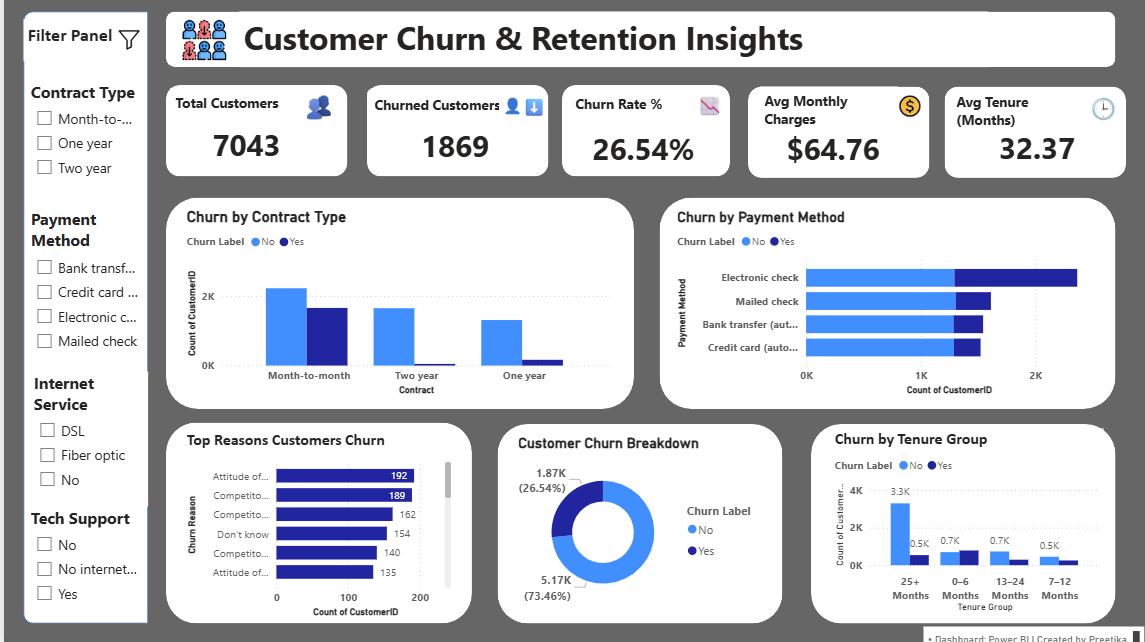

What the dashboard file says about the page in this screenshot:
{"tool":"powerbi","page":{"name":"Page 1","canvas":[1340,780],"ordinal":0},"visuals":[{"type":"textbox","box":[1080.2,755.9,259,24.7],"z":0},{"type":"shape","box":[190.3,33.5,1115.4,65.2],"z":1000},{"type":"shape","box":[190.3,119.8,213.2,107.5],"z":2000},{"type":"shape","box":[190.3,252,549.8,248.5],"z":3000},{"type":"shape","box":[770,252,535.7,248.5],"z":4000},{"type":"shape","box":[190.3,516.3,359.5,236.1],"z":5000},{"type":"shape","box":[579.7,518.1,334.8,234.4],"z":6000},{"type":"shape","box":[948,518.1,357.7,234.4],"z":7000},{"type":"shape","box":[22.9,33.5,146.3,718.9],"z":8000},{"type":"image","box":[209.7,24.7,51.1,84.6],"z":9000},{"type":"textbox","box":[276.6,33.5,879.3,65.2],"z":10000},{"type":"textbox","box":[195.6,123.3,174.4,40.5],"z":11000},{"type":"shape","box":[426.4,119.8,213.2,107.5],"z":12000},{"type":"shape","box":[655.5,119.8,197.4,107.5],"z":13000},{"type":"shape","box":[874,121.6,213.2,107.5],"z":14000},{"type":"shape","box":[1104.8,121.6,213.2,107.5],"z":15000},{"type":"textbox","box":[426.4,123.3,207.9,51.1],"z":16000},{"type":"textbox","box":[666.1,125.1,148,44.1],"z":17000},{"type":"textbox","box":[888.1,121.6,162.1,52.9],"z":18000},{"type":"textbox","box":[1113.6,123.3,144.5,52.9],"z":19000},{"type":"image","box":[355.9,126.9,28.2,38.8],"z":20000},{"type":"image","box":[581.5,119.8,31.7,49.3],"z":21000},{"type":"image","box":[611.4,125.1,22.9,42.3],"z":22000},{"type":"image","box":[814.1,132.2,30,24.7],"z":23000},{"type":"image","box":[1277.5,128.6,28.2,38.8],"z":24000},{"type":"clusteredColumnChart","title":"Churn by Contract Type","fields":{"Category":["cleaned_telco_churn.Contract"],"Y":["CountNonNull(cleaned_telco_churn.CustomerID)"],"Series":["cleaned_telco_churn.Churn Label"]},"box":[209.7,264.3,507.5,223.8],"z":25000},{"type":"donutChart","title":"Customer Churn Breakdown","fields":{"Category":["cleaned_telco_churn.Churn Label"],"Y":["CountNonNull(cleaned_telco_churn.CustomerID)"]},"box":[599.1,530.4,301.3,209.7],"z":26000},{"type":"barChart","title":"Churn by Payment Method","fields":{"Y":["CountNonNull(cleaned_telco_churn.CustomerID)"],"Category":["cleaned_telco_churn.Payment Method"],"Series":["cleaned_telco_churn.Churn Label"]},"box":[785.9,264.3,505.7,223.8],"z":27000},{"type":"clusteredColumnChart","title":"Churn by Tenure Group","fields":{"Y":["CountNonNull(cleaned_telco_churn.CustomerID)"],"Category":["cleaned_telco_churn.Tenure Group"],"Series":["cleaned_telco_churn.Churn Label"]},"box":[970.9,523.3,320.7,220.3],"z":28000},{"type":"slicer","title":"Contract Type","fields":{"Values":["cleaned_telco_churn.Contract"]},"box":[26.4,114.5,139.2,137.4],"z":29000},{"type":"textbox","box":[22.9,42.3,119.8,49.3],"z":30000},{"type":"slicer","title":"Payment Method","fields":{"Values":["cleaned_telco_churn.Payment Method"]},"box":[26.4,264.3,137.4,174.4],"z":31000},{"type":"slicer","title":"Internet Service","fields":{"Values":["cleaned_telco_churn.Internet Service"]},"box":[30,456.4,139.2,158.6],"z":32000},{"type":"slicer","title":"Tech Support","fields":{"Values":["cleaned_telco_churn.Tech Support"]},"box":[26.4,615,135.7,125.1],"z":33000},{"type":"card","fields":{"Values":["CountNonNull(cleaned_telco_churn.CustomerID)"]},"box":[232.6,160.4,104,58.1],"z":34000},{"type":"card","fields":{"Values":["cleaned_telco_churn.Churn Rate %"]},"box":[685.5,172.7,130.4,42.3],"z":35000},{"type":"card","fields":{"Values":["cleaned_telco_churn.Churned Customers"]},"box":[484.6,162.1,89.9,56.4],"z":36000},{"type":"card","fields":{"Values":["Avg(cleaned_telco_churn.Monthly Charges)"]},"box":[907.5,172.7,132.2,44.1],"z":37000},{"type":"card","fields":{"Values":["Avg(cleaned_telco_churn.Tenure Months)"]},"box":[1147.1,170.9,132.2,44.1],"z":38000},{"type":"image","box":[128.6,54.6,37,24.7],"z":39000},{"type":"image","box":[1050.2,128.6,28.2,31.7],"z":40000},{"type":"barChart","title":"Top Reasons Customers Churn","fields":{"Category":["cleaned_telco_churn.Churn Reason"],"Y":["CountNonNull(cleaned_telco_churn.CustomerID)"]},"box":[209.7,524.3,320.5,223.6],"z":41000}]}

Visuals, with their boxes in screenshot pixels (x1, y1, x2, y2):
textbox: [911, 617, 1128, 638]
shape: [163, 10, 1100, 65]
shape: [163, 83, 342, 173]
shape: [163, 194, 625, 403]
shape: [650, 194, 1100, 403]
shape: [163, 416, 465, 614]
shape: [490, 417, 771, 614]
shape: [800, 417, 1100, 614]
shape: [22, 10, 145, 614]
image: [179, 3, 222, 74]
textbox: [235, 10, 974, 65]
textbox: [167, 86, 314, 120]
shape: [361, 83, 540, 173]
shape: [554, 83, 720, 173]
shape: [737, 84, 917, 175]
shape: [931, 84, 1111, 175]
textbox: [361, 86, 536, 129]
textbox: [563, 87, 687, 124]
textbox: [749, 84, 885, 129]
textbox: [939, 86, 1060, 130]
image: [302, 89, 326, 121]
image: [492, 83, 518, 124]
image: [517, 87, 536, 123]
image: [687, 93, 712, 114]
image: [1077, 90, 1100, 123]
"Churn by Contract Type" clusteredColumnChart: [179, 204, 606, 392]
"Customer Churn Breakdown" donutChart: [506, 428, 760, 604]
"Churn by Payment Method" barChart: [663, 204, 1088, 392]
"Churn by Tenure Group" clusteredColumnChart: [819, 422, 1088, 607]
"Contract Type" slicer: [25, 78, 142, 194]
textbox: [22, 18, 123, 59]
"Payment Method" slicer: [25, 204, 141, 351]
"Internet Service" slicer: [28, 366, 145, 499]
"Tech Support" slicer: [25, 499, 139, 604]
card - CountNonNull(cleaned_telco_churn.CustomerID): [198, 117, 286, 166]
card - cleaned_telco_churn.Churn Rate %: [579, 127, 689, 163]
card - cleaned_telco_churn.Churned Customers: [410, 118, 486, 166]
card - Avg(cleaned_telco_churn.Monthly Charges): [766, 127, 877, 164]
card - Avg(cleaned_telco_churn.Tenure Months): [967, 126, 1078, 163]
image: [111, 28, 142, 49]
image: [885, 90, 909, 117]
"Top Reasons Customers Churn" barChart: [179, 423, 449, 611]
